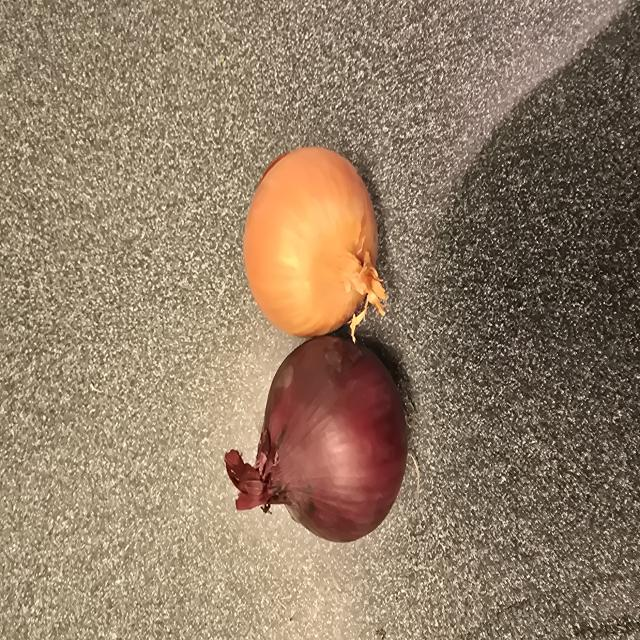Onion: (225, 336, 408, 543), (243, 147, 387, 337)
